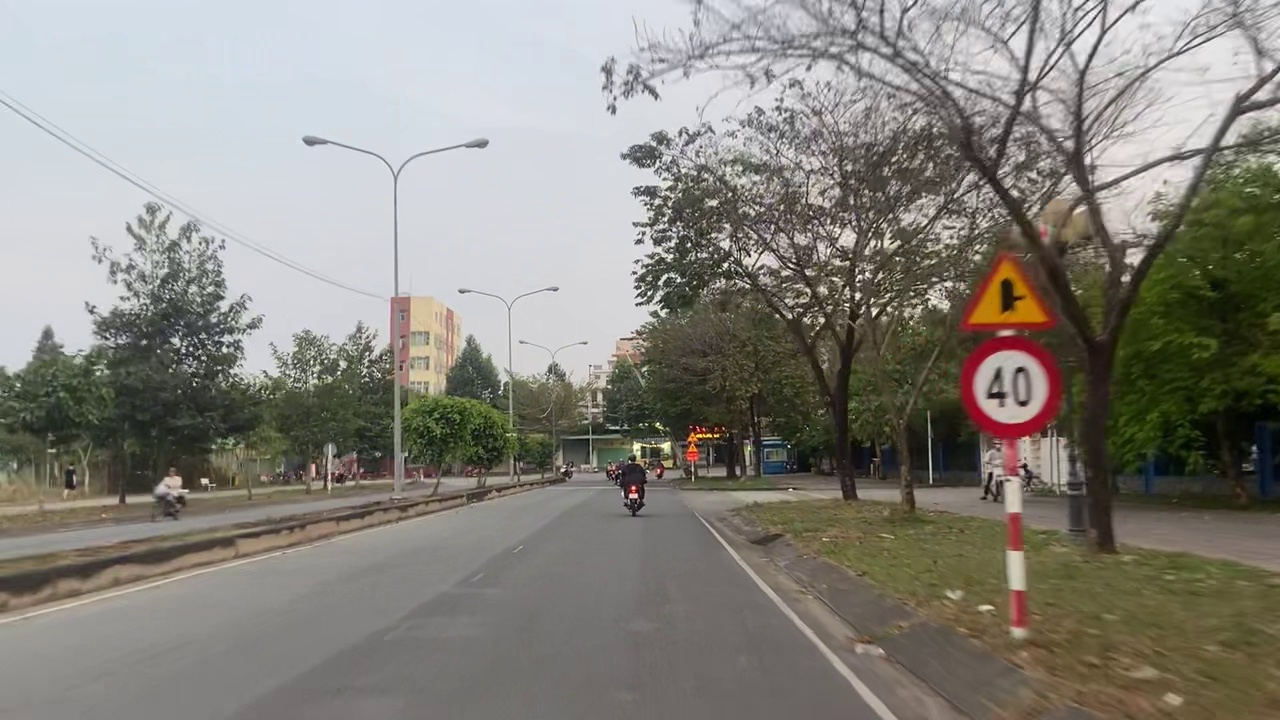gioi_han_40km: (960, 336, 1063, 440)
